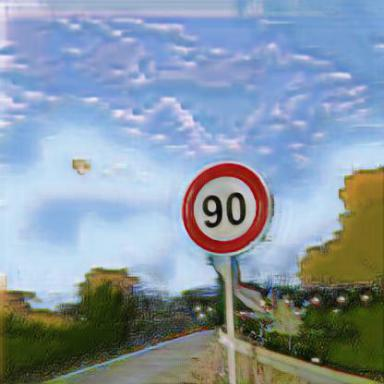Speed_limit_90: (181, 166, 267, 251)
